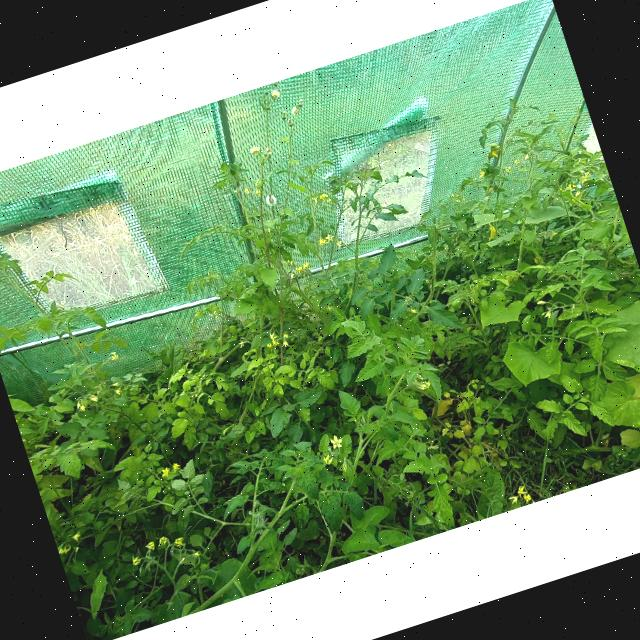Flowers: (485, 142, 506, 162), (450, 190, 468, 206), (414, 378, 434, 392), (330, 433, 346, 450), (576, 170, 594, 184), (248, 144, 264, 159), (58, 542, 74, 556), (172, 534, 187, 548), (69, 530, 85, 543), (188, 548, 202, 562), (129, 554, 144, 567), (75, 399, 88, 414), (157, 534, 170, 548), (321, 454, 335, 467), (515, 484, 528, 498), (540, 307, 554, 320), (170, 461, 183, 474), (535, 297, 550, 308), (508, 494, 522, 505), (144, 540, 156, 552), (160, 466, 172, 478), (324, 232, 336, 244), (562, 182, 576, 192), (108, 351, 120, 362), (477, 168, 490, 178), (266, 339, 280, 348), (88, 394, 100, 404), (318, 190, 330, 200), (294, 263, 304, 275), (406, 306, 418, 316), (521, 492, 532, 502), (113, 387, 124, 397), (334, 239, 344, 250), (238, 339, 250, 348), (281, 330, 291, 340), (285, 258, 295, 268), (324, 304, 334, 314), (318, 236, 327, 247), (325, 197, 336, 206), (523, 151, 534, 160), (108, 381, 122, 388), (268, 332, 278, 341), (280, 339, 290, 348), (253, 178, 262, 188), (302, 260, 311, 270), (254, 188, 262, 198), (513, 158, 523, 166), (242, 187, 250, 196), (502, 166, 512, 173)
